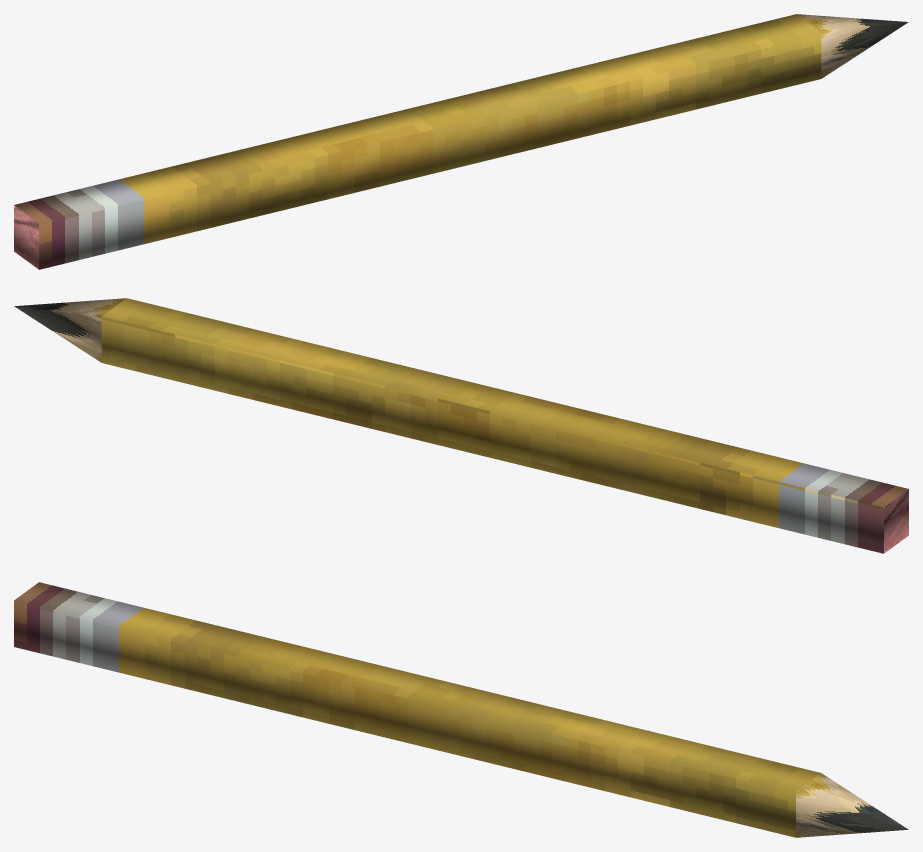
Rendered from p_rus_pencil_LOD1.obj.
The picture shows the model from 3 angles, top to bottom: view 1: azimuth 30°, elevation 25°; view 2: azimuth 150°, elevation 25°; view 3: azimuth 330°, elevation 25°; orthographic projection.
Visible parts, largest first — view 1: mtl_p_rus_pencil; view 2: mtl_p_rus_pencil; view 3: mtl_p_rus_pencil.
Boxes of the visible parts, x1,y1,x2,y2 form: mtl_p_rus_pencil: (14,14,908,269); mtl_p_rus_pencil: (14,298,908,553); mtl_p_rus_pencil: (14,582,908,837).
Bounding box in the file's own units: 19.32 × 0.9724 × 0.9526.
